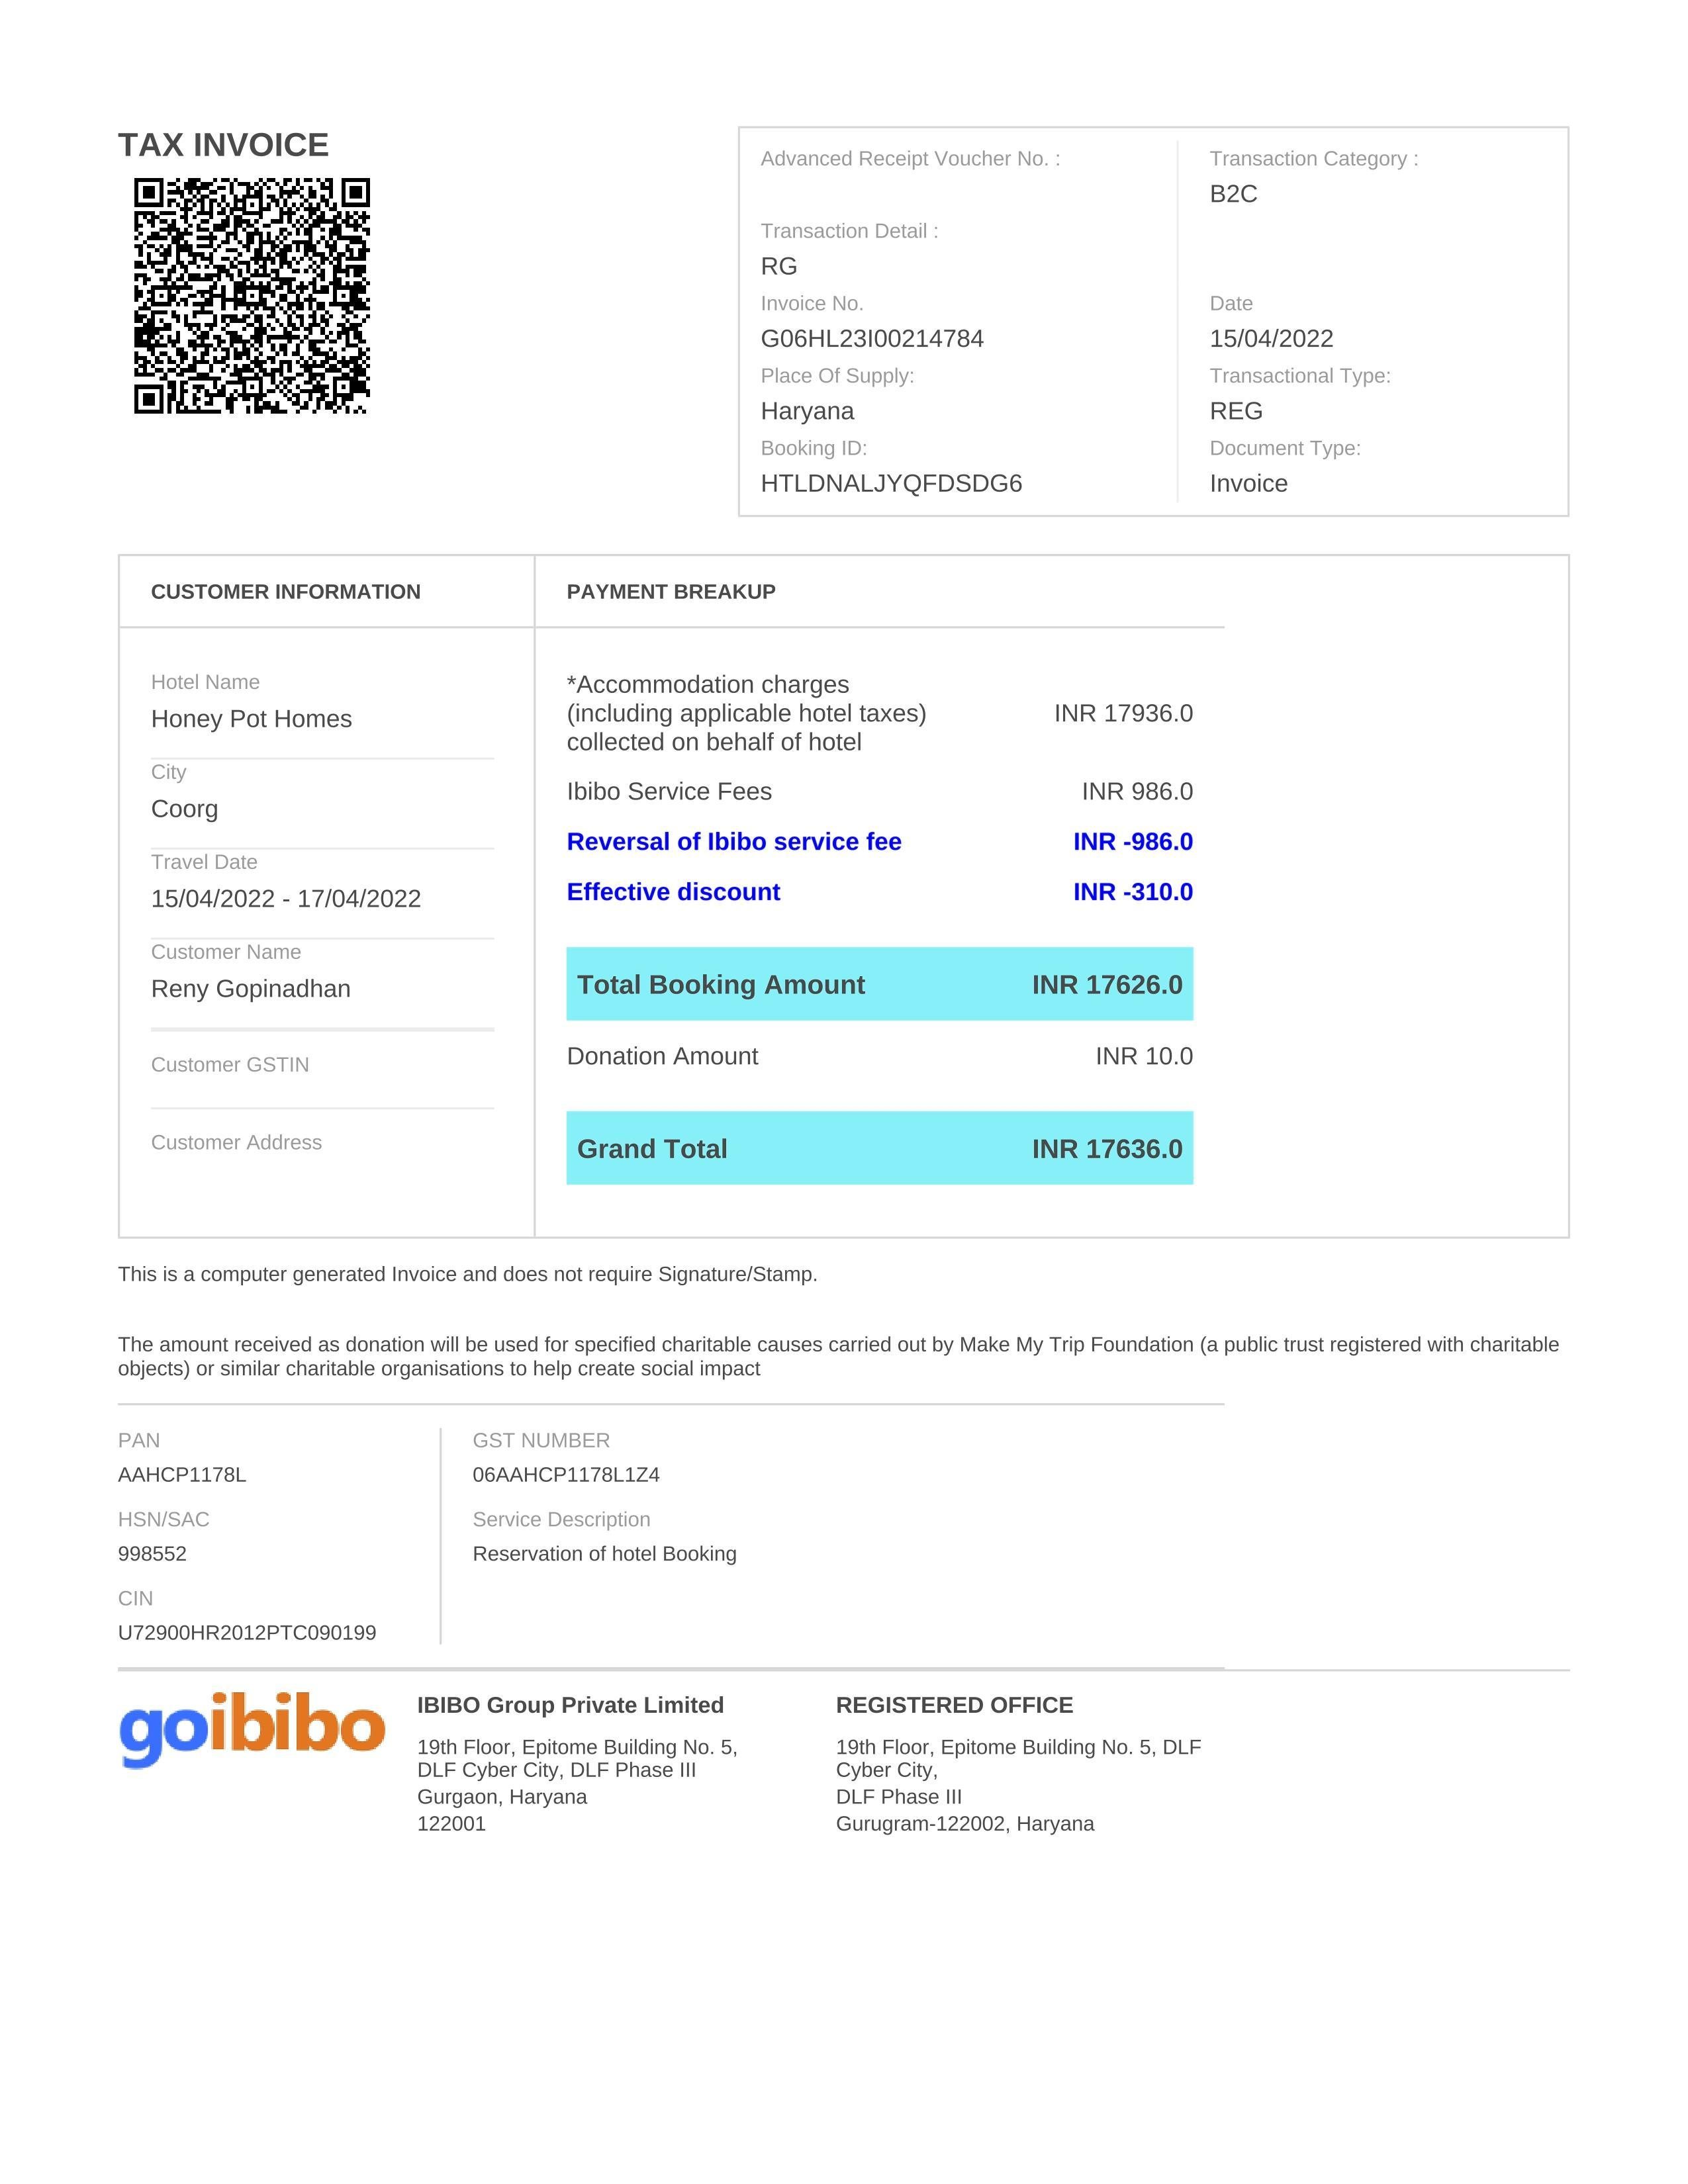InvoiceDate: (1207, 319, 1344, 356)
InvoiceNumber: (757, 323, 998, 356)
TotalAmount: (1028, 1122, 1190, 1170)
